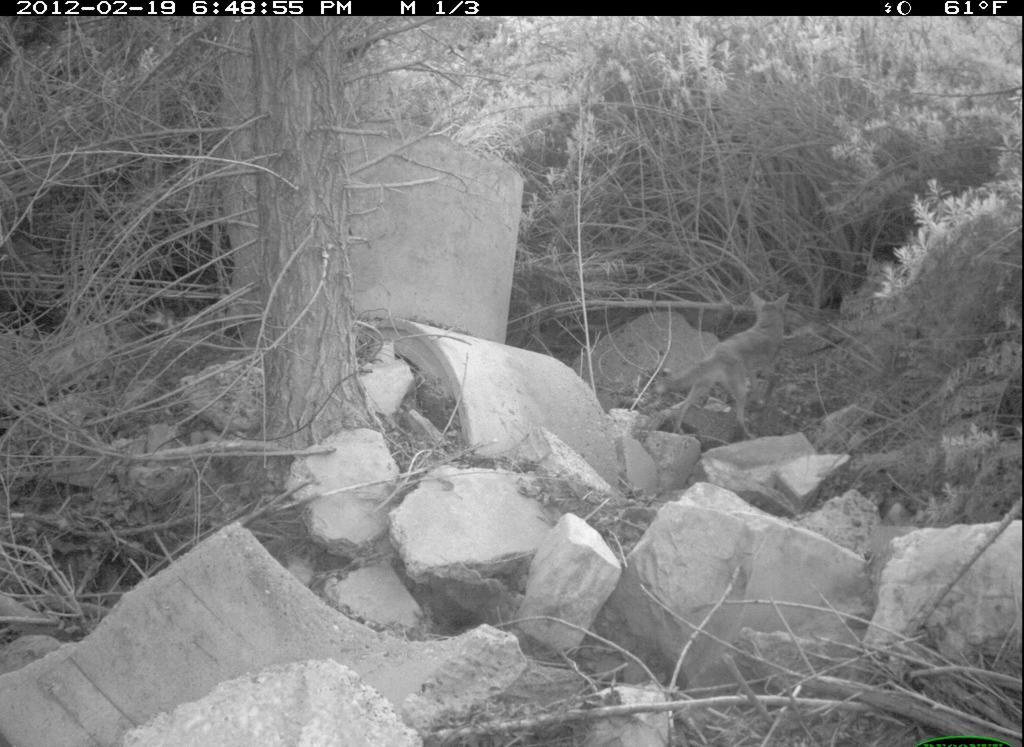coyote: (634, 283, 802, 433)
